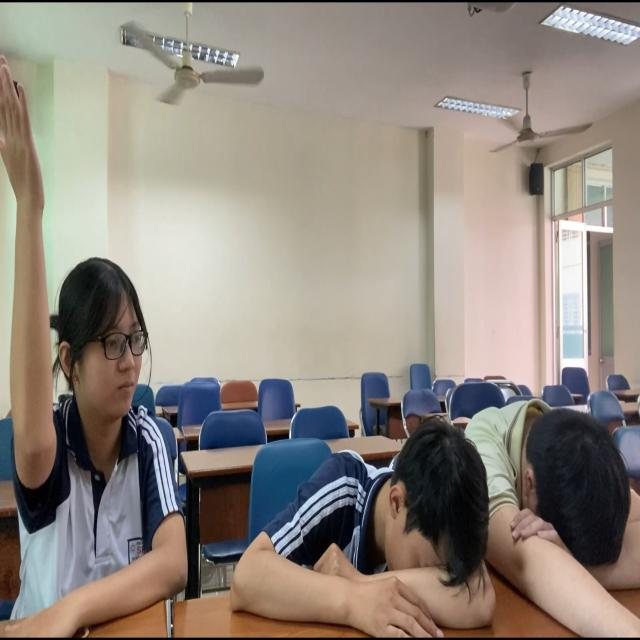raise_hand: (1, 36, 193, 639)
sleep: (234, 402, 508, 640), (456, 370, 640, 640)
